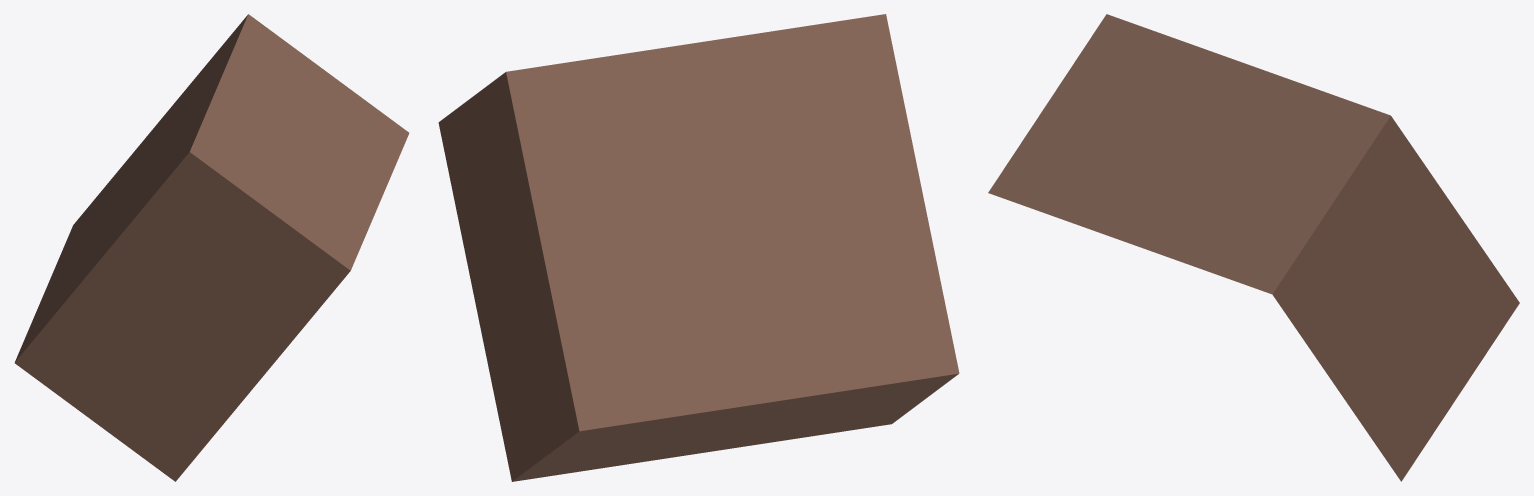
The picture shows the model from 3 angles, left to right: view 1: azimuth 30°, elevation 25°; view 2: azimuth 150°, elevation 25°; view 3: azimuth 270°, elevation 25°; orthographic projection. The views are drawn at different scales.
Parts seen in each view (by area): view 1: way/asakusa-osm-1; view 2: way/asakusa-osm-1; view 3: way/asakusa-osm-1.
Boxes of the visible parts, x1,y1,x2,y2 form: way/asakusa-osm-1: (14, 14, 409, 481); way/asakusa-osm-1: (438, 14, 959, 481); way/asakusa-osm-1: (988, 14, 1519, 481).
Bounding box in the file's own units: 51.85 × 39.87 × 51.72.
